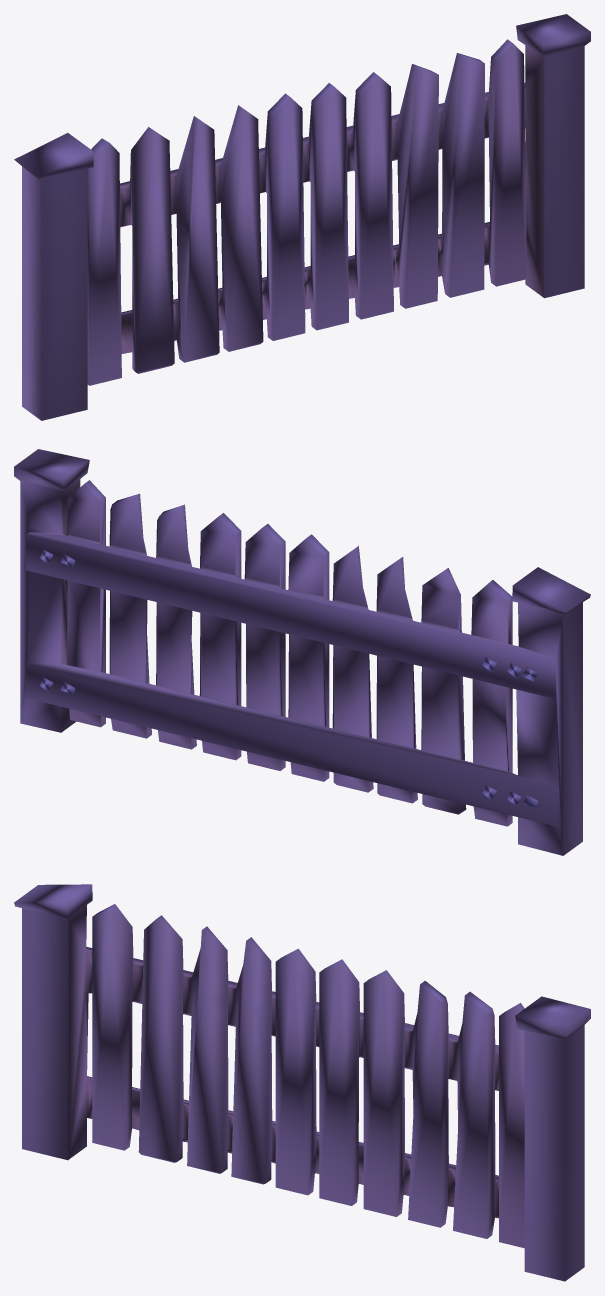
Rendered from model.progressive.glb.
3 views of the same model, one above another, from view 1: azimuth 30°, elevation 25°; view 2: azimuth 150°, elevation 25°; view 3: azimuth 330°, elevation 25° (orthographic).
Parts seen in each view (by area): view 1: material; view 2: material; view 3: material.
Boxes of the visible parts, x1,y1,x2,y2 form: material: (14,14,590,420); material: (14,449,590,855); material: (14,884,590,1281).
Bounding box in the file's own units: 1.9 × 0.8553 × 0.1764.
1 material, 1 textured.
